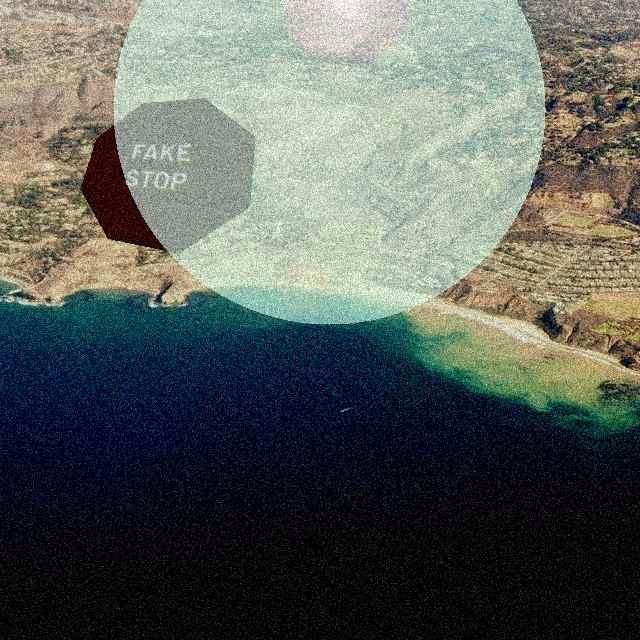FAKE_STOP: (80, 98, 255, 253)
